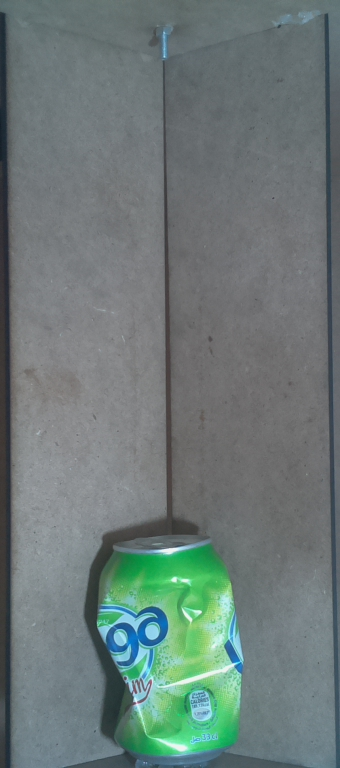Canette: (88, 521, 253, 768)
